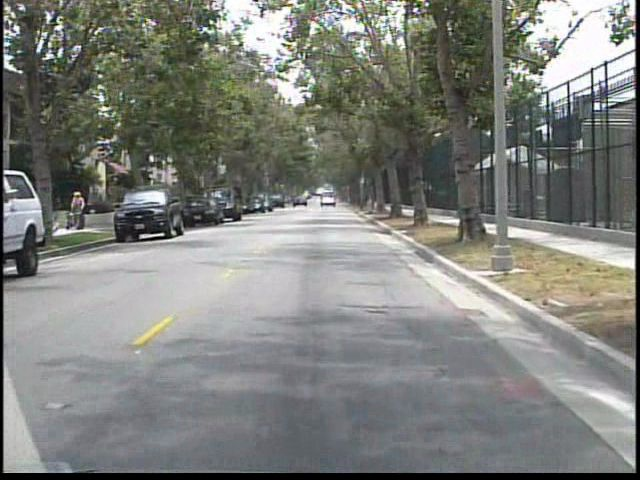person: (72, 191, 93, 233)
